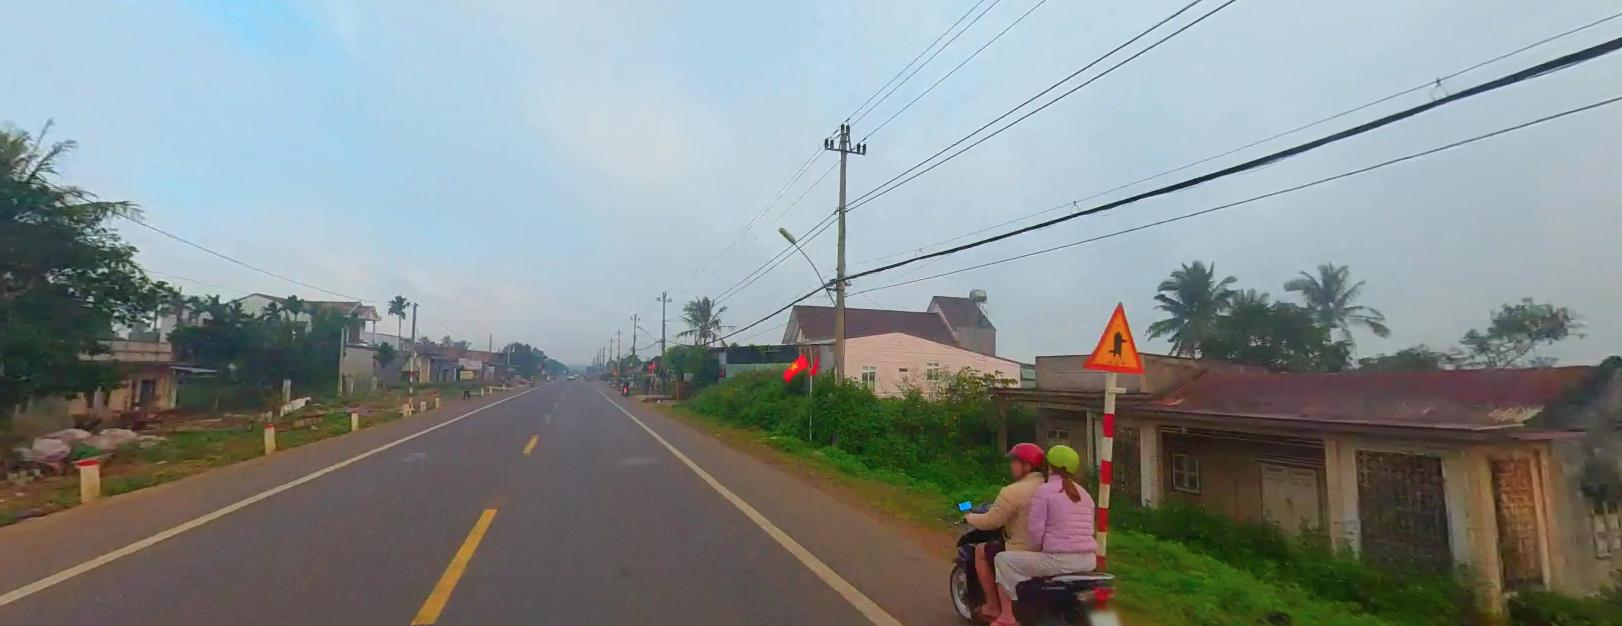Nguy hiem: (1081, 297, 1145, 375), (1083, 299, 1144, 372)
